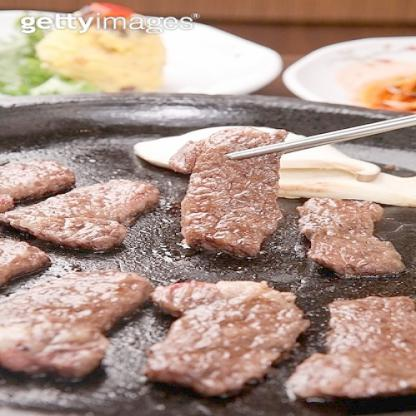Carne: (132, 275, 284, 391), (173, 126, 287, 259), (282, 289, 415, 401), (0, 263, 123, 375), (0, 166, 129, 257), (292, 194, 415, 279), (0, 149, 68, 205), (143, 160, 160, 162)
